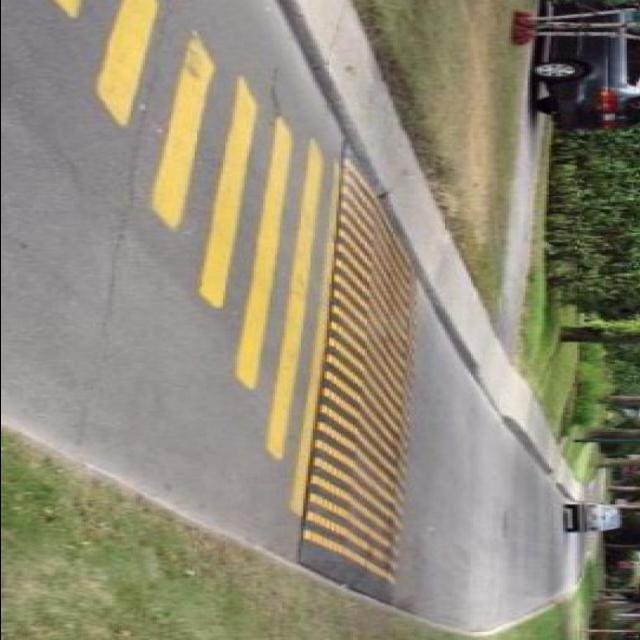Speed_Breaker: (280, 141, 420, 611), (292, 135, 425, 608)
